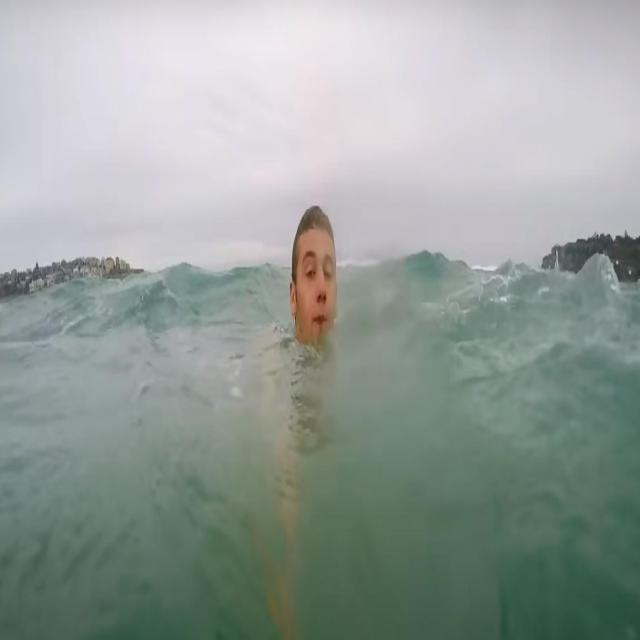Out of Water: (284, 191, 347, 355)
